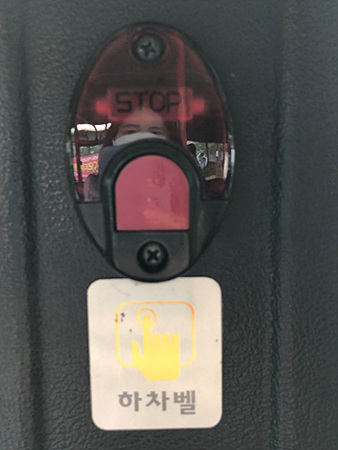bell: (65, 19, 235, 281)
